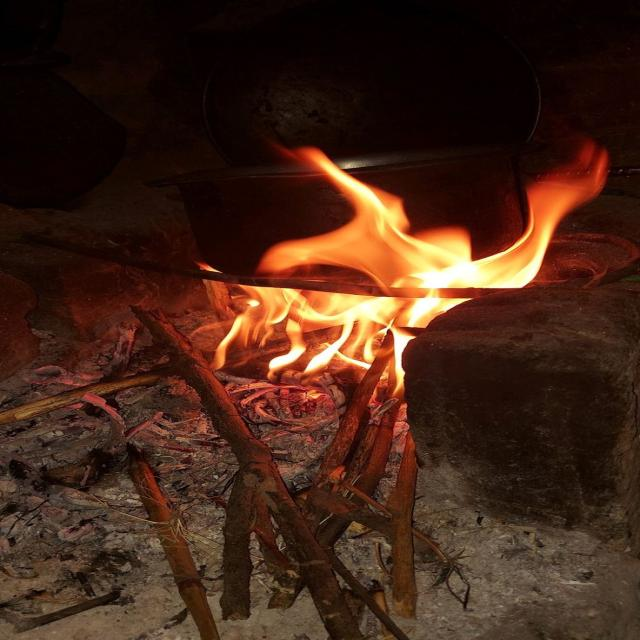fire: (212, 285, 474, 398), (486, 138, 610, 288), (256, 227, 486, 289), (275, 146, 409, 227)
